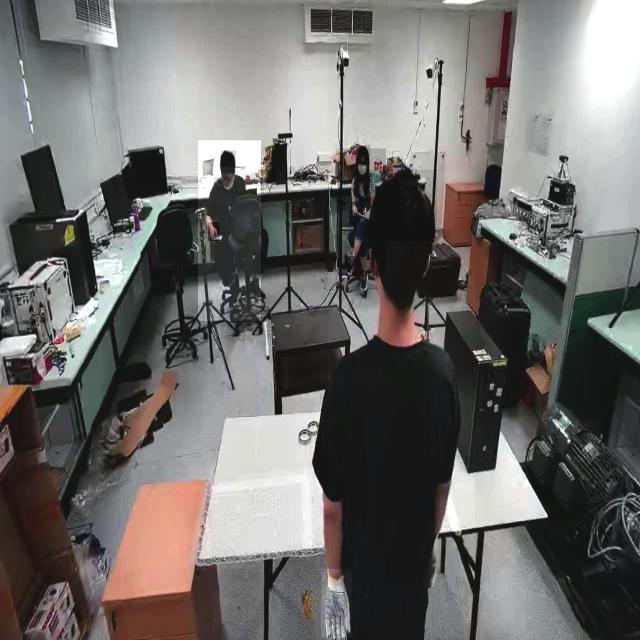hand_glove: (321, 569, 351, 638)
hand_noglove: (208, 222, 220, 242), (364, 202, 374, 220), (352, 198, 360, 218)
head_nohelmet: (371, 170, 437, 242), (220, 150, 236, 168), (357, 145, 370, 157)
person: (328, 172, 475, 639), (197, 140, 261, 322), (338, 148, 386, 276)
